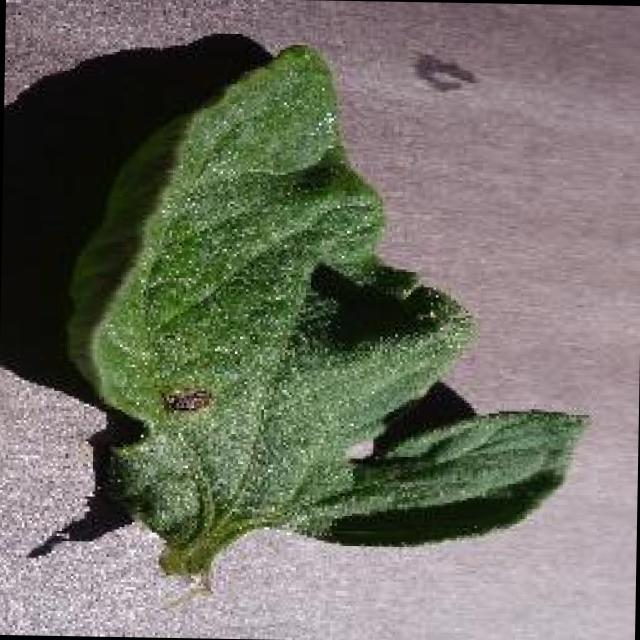Tomato_Early_Blight: (109, 296, 260, 545)
